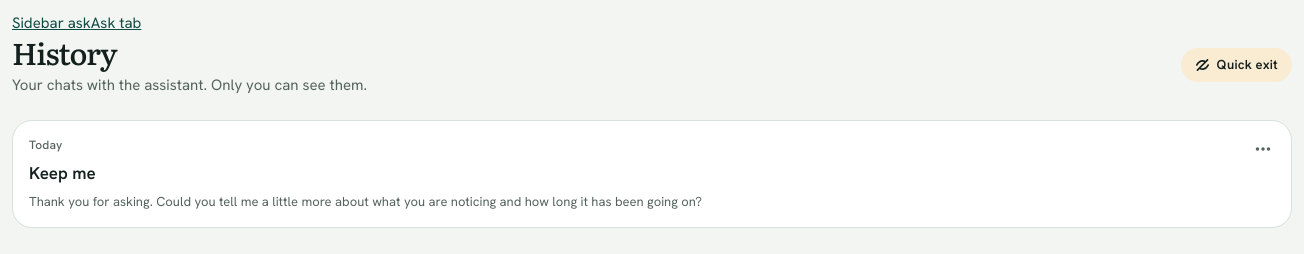
History (saved chats) › closes the menu with Escape and Cancel keeps the chat
Later steps or results of the test are not shown.
Click the button named "More options for: Keep me" at (1263, 149), box [1243,129,1283,169]
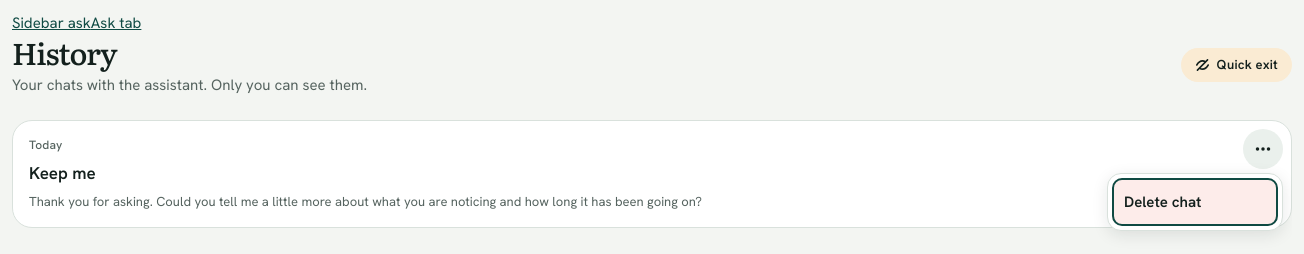
Press Escape in the menu, box [1107,173,1283,231]
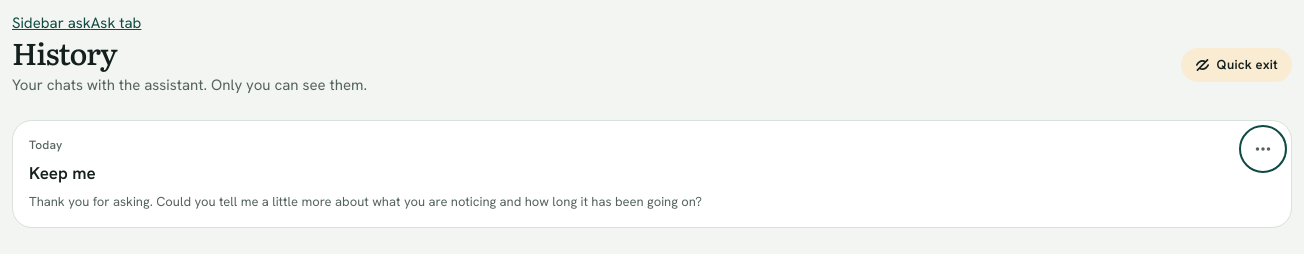
Check: the menu is gone
